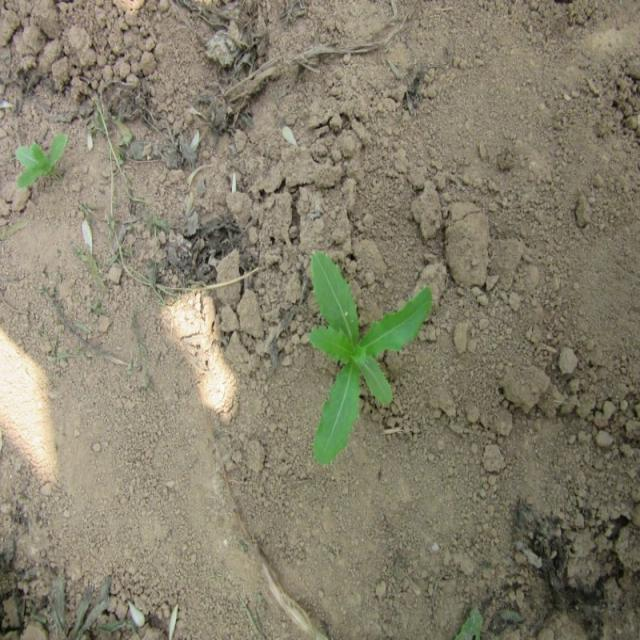cs: (303, 240, 436, 469)
